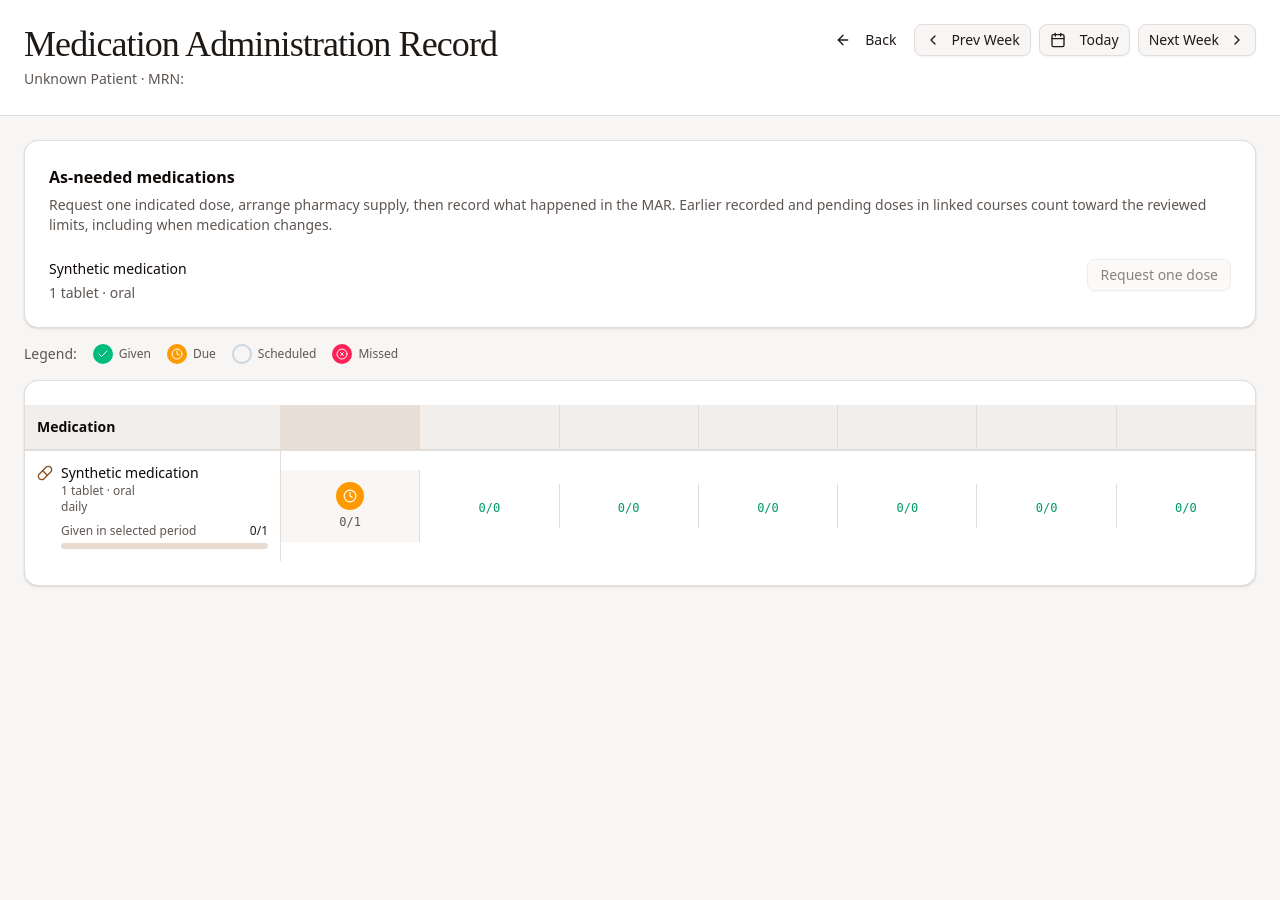
reachable Chronicle grid dose decisions › offers a truthful nonadministration outcome when the source dose has no supply
The image size is (1280, 900).
Click the button named "Record outcome: Synthetic medication" at (350, 496), box 336,482 -> 364,510
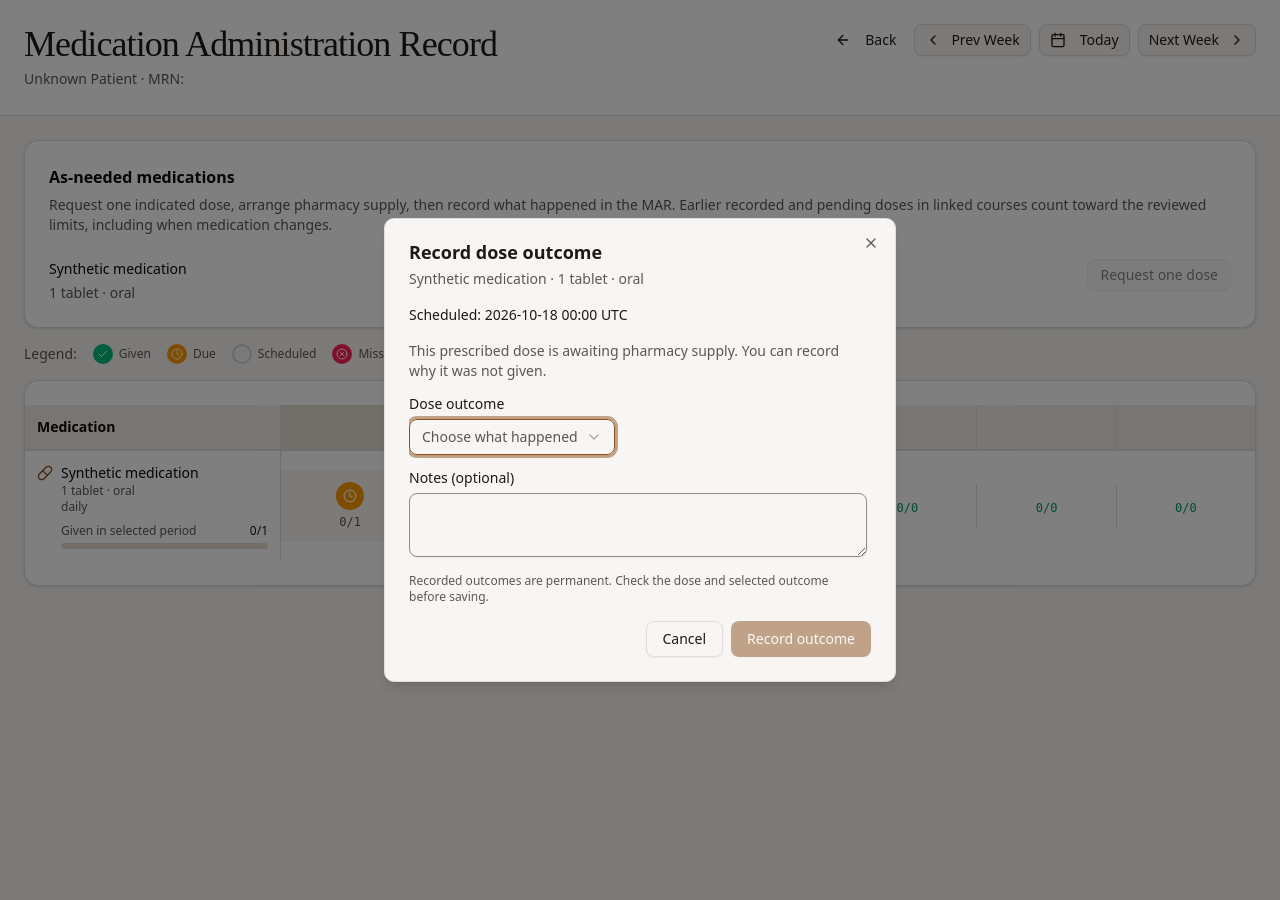
Result: the text "awaiting pharmacy supply" is shown at 409,341 -> 839,380
Click the dropdown named "Dose outcome" at (512, 437), box 409,419 -> 615,455
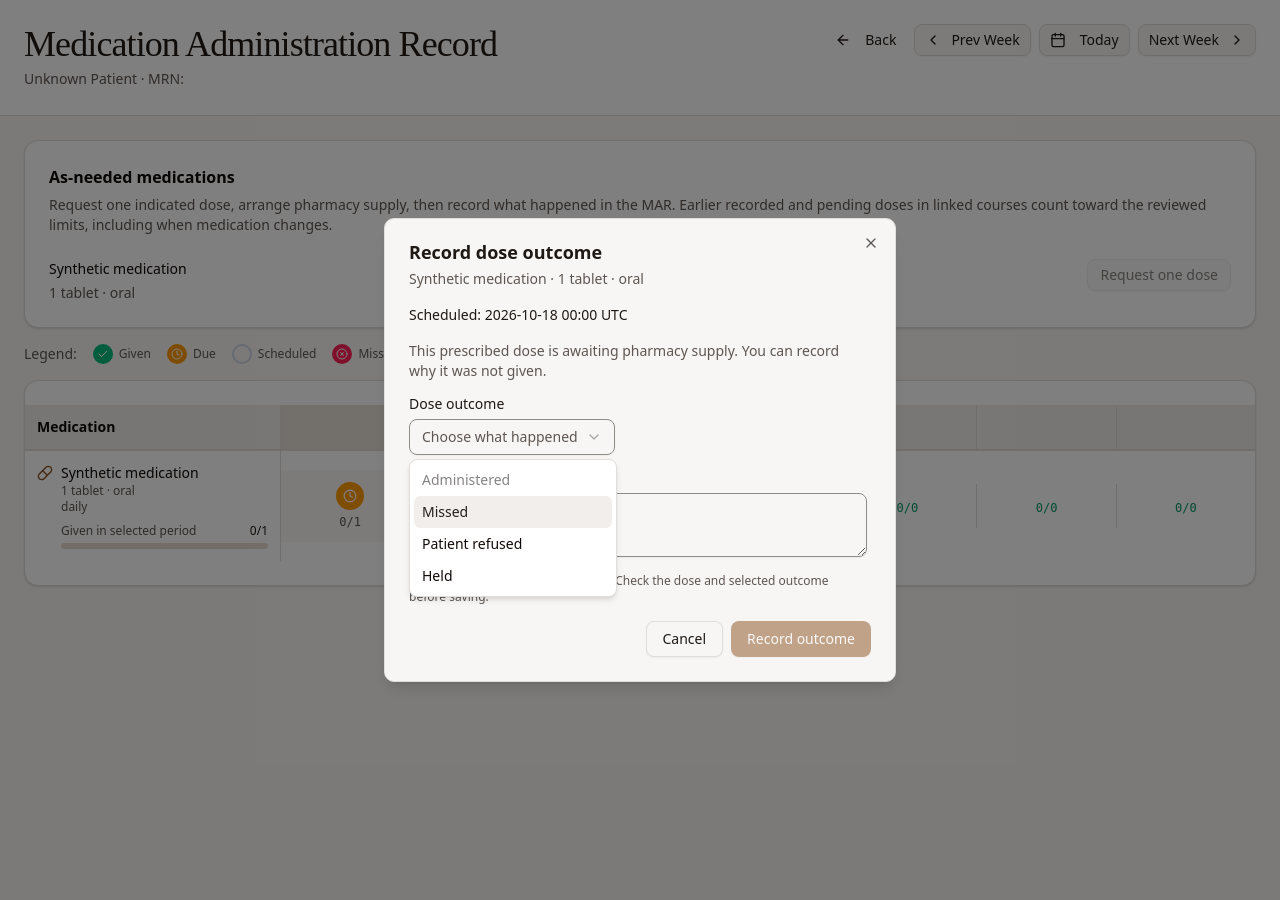
Click the option "Held" at (437, 576), box 422,566 -> 452,585
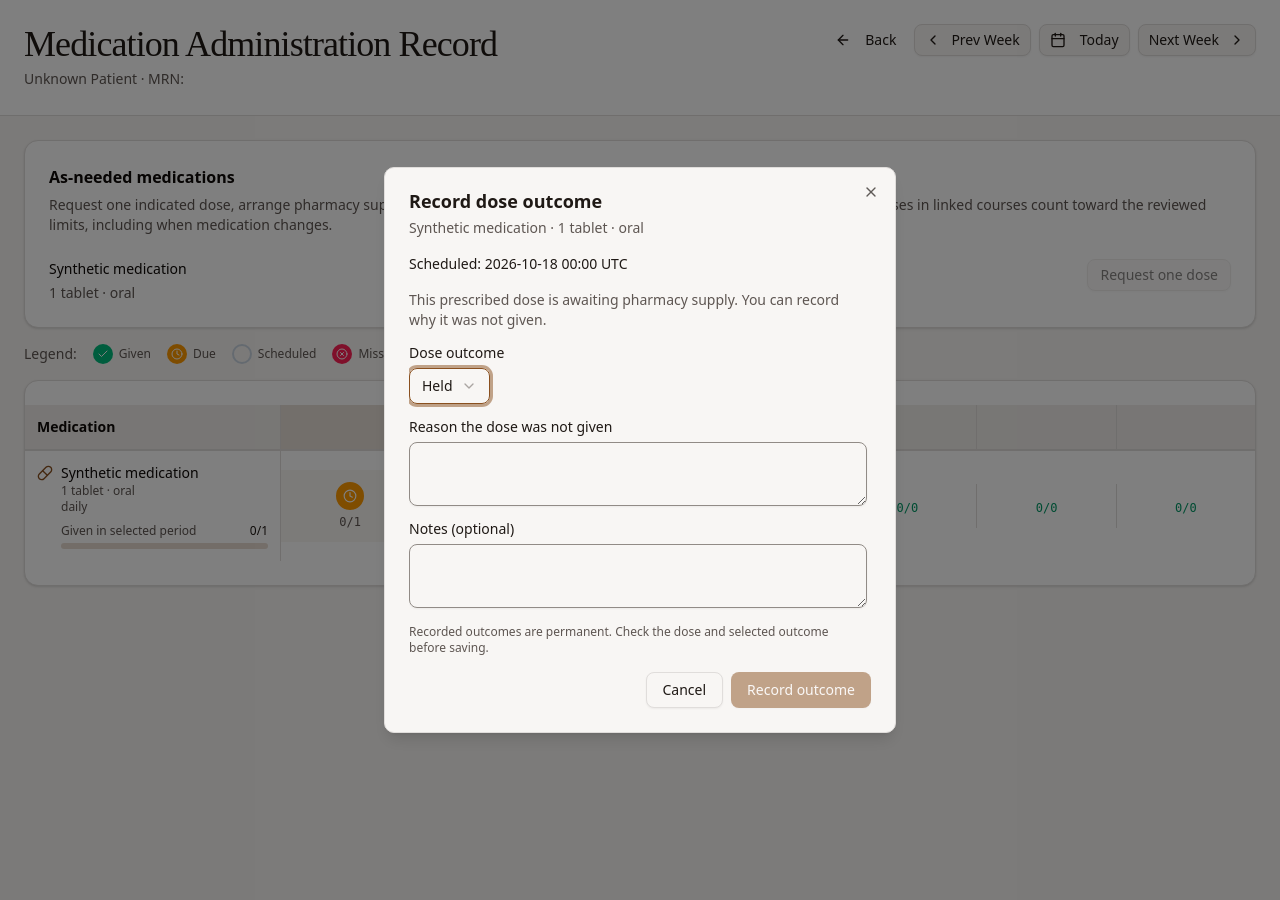
Type "Synthetic hold" into the text box labelled "Reason the dose was not given" at (638, 474), box 409,442 -> 867,506
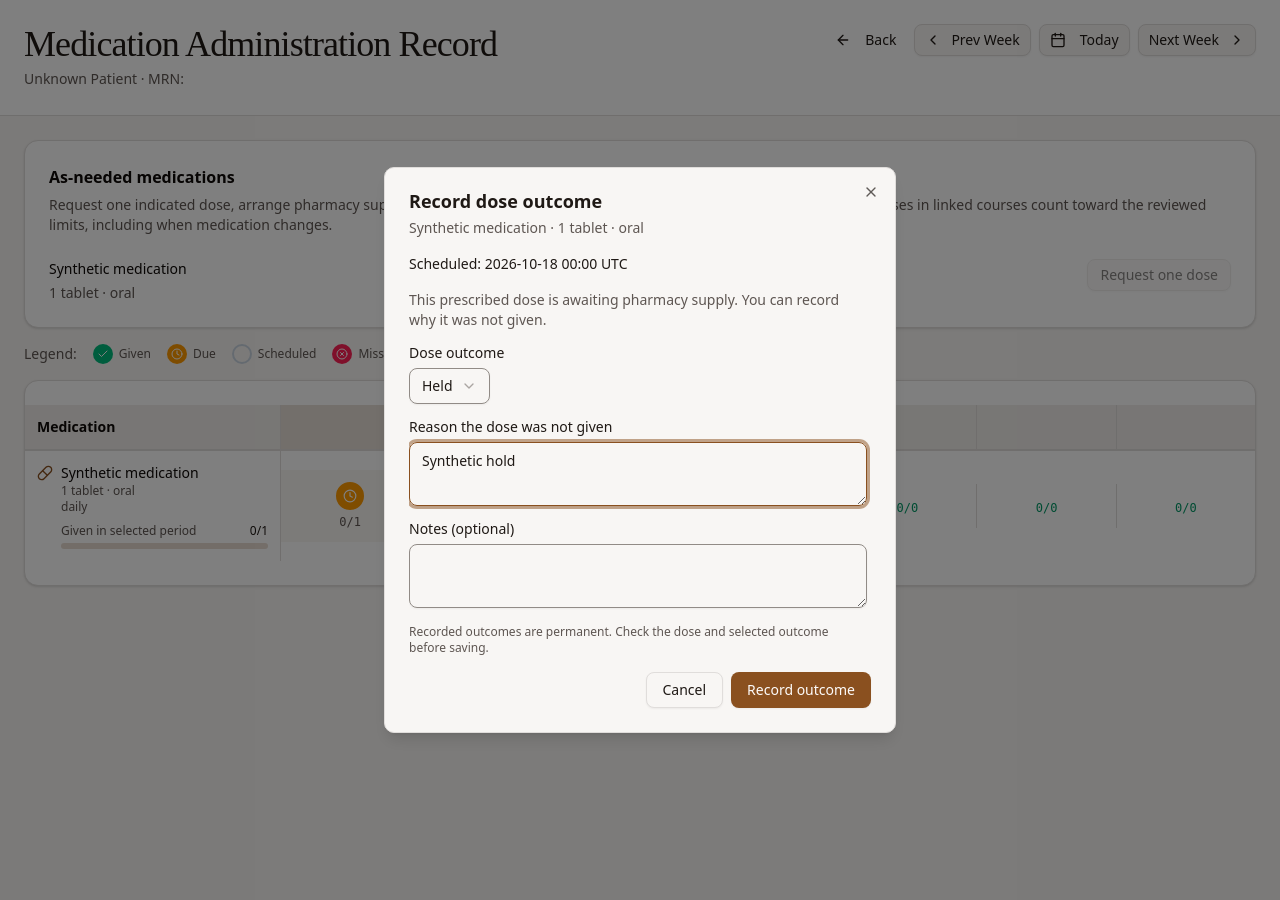
Click the button "Record outcome" at (801, 690), box 731,672 -> 871,708
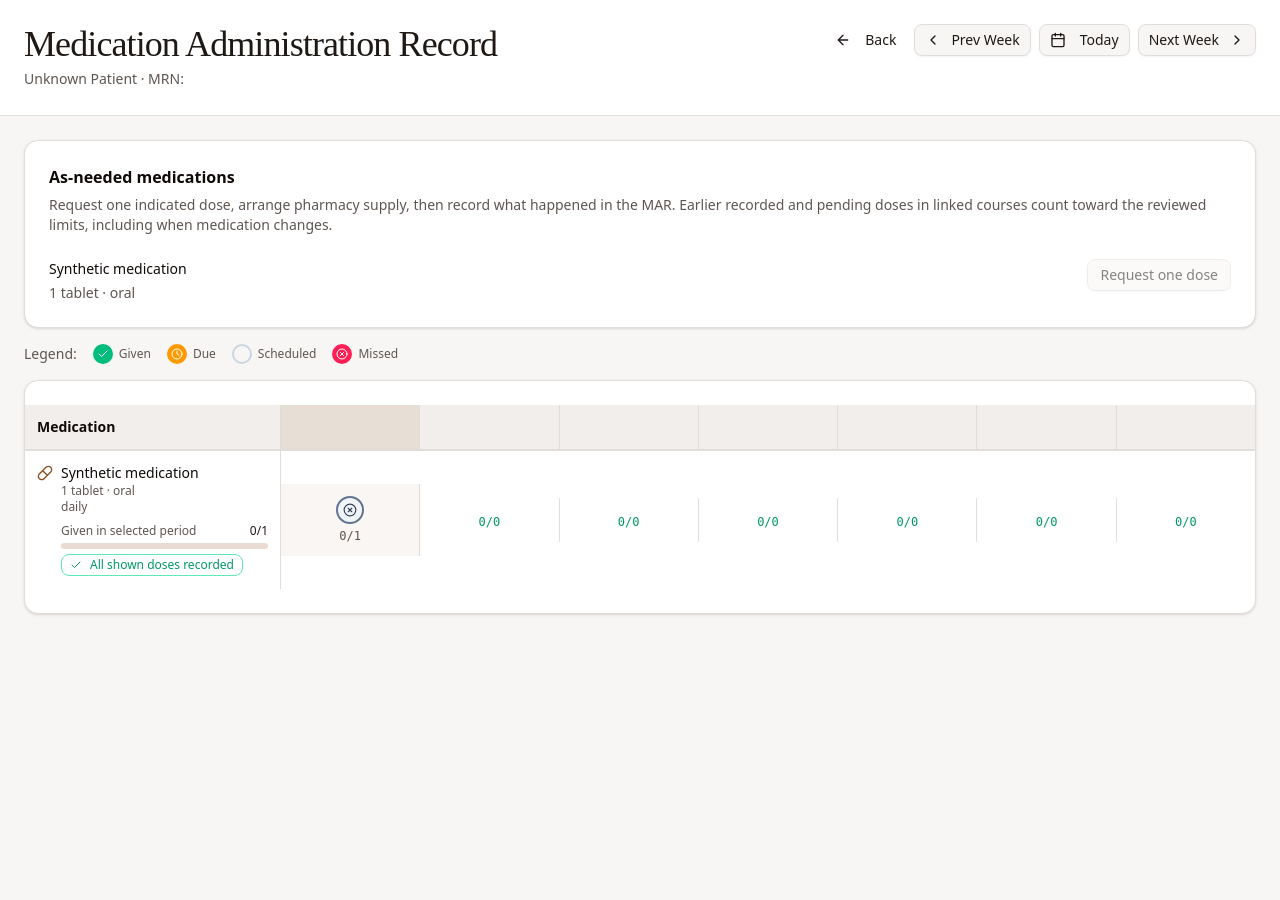
Result: the dialog is gone
